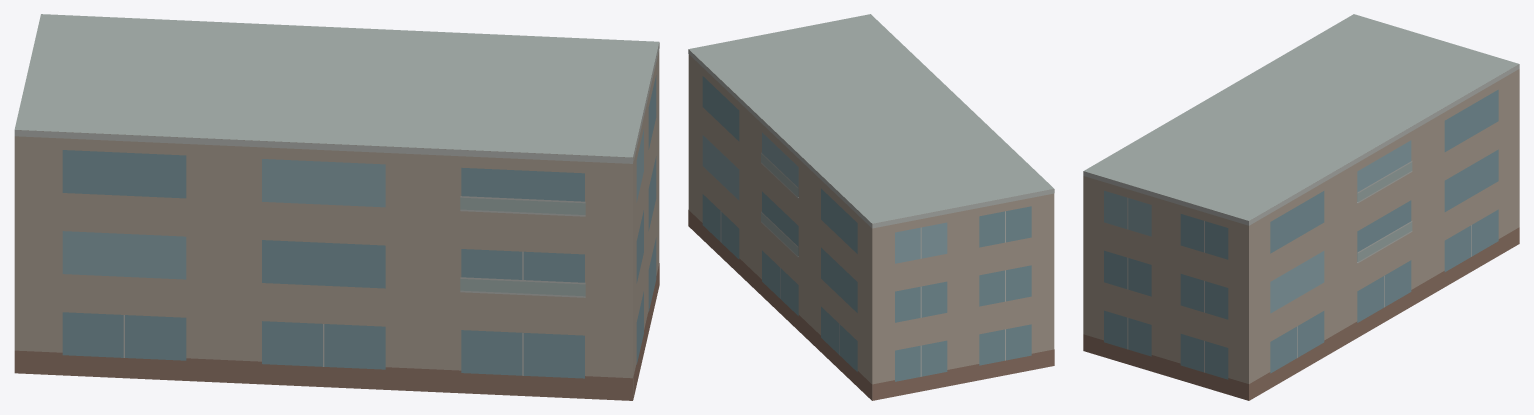
Rendered from survey-upis-32551050.glb.
3 views of the same model, side by side, from view 1: azimuth 30°, elevation 25°; view 2: azimuth 150°, elevation 25°; view 3: azimuth 270°, elevation 25° (orthographic). The views are drawn at different scales.
Visible parts, largest first — view 1: survey-upis-32551050.tmp; view 2: survey-upis-32551050.tmp; view 3: survey-upis-32551050.tmp.
Boxes of the visible parts, x1,y1,x2,y2 form: survey-upis-32551050.tmp: (14, 14, 659, 400); survey-upis-32551050.tmp: (688, 14, 1054, 400); survey-upis-32551050.tmp: (1083, 14, 1519, 400).
Size of the model in its own units: 22.59 by 9.15 by 20.11.
